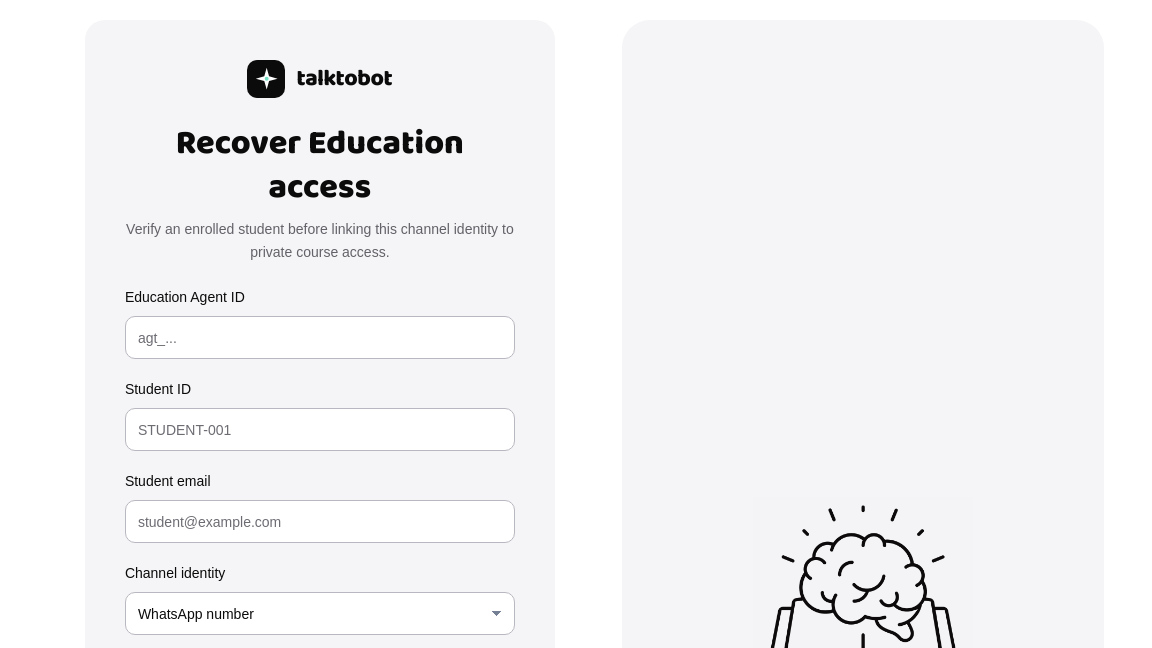
Test: EducationAccessRecoveryPage › does not disclose enrollment validity in the start confirmation
Type "agt_unknown" into the field labelled "Education Agent ID" at (320,338), box [125,316,515,359]
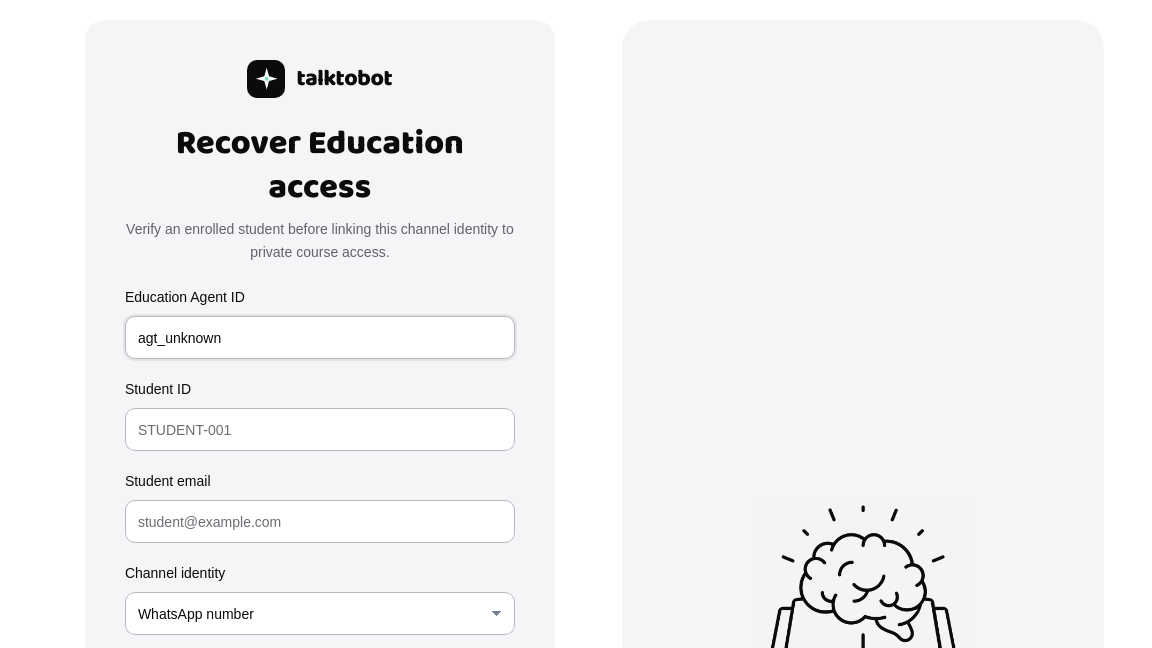
Type "UNKNOWN" into the field labelled "Student ID" at (320,430), box [125,408,515,451]
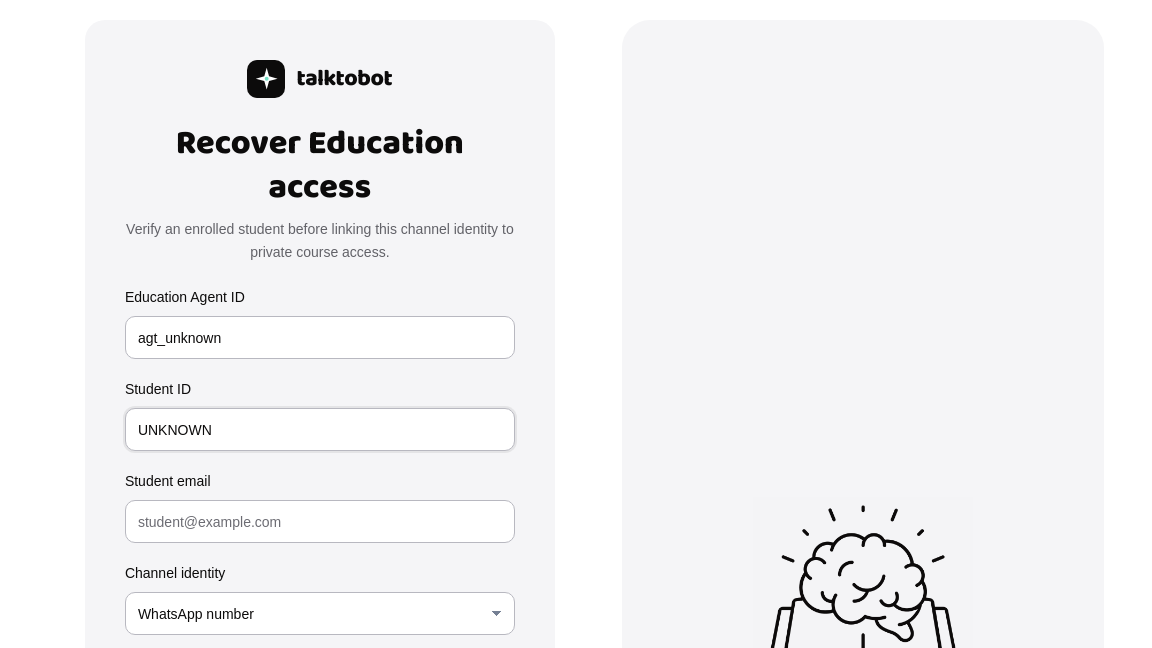
Type "unknown@example.com" into the field labelled "Student email" at (320,522), box [125,500,515,543]
(page scrolled)
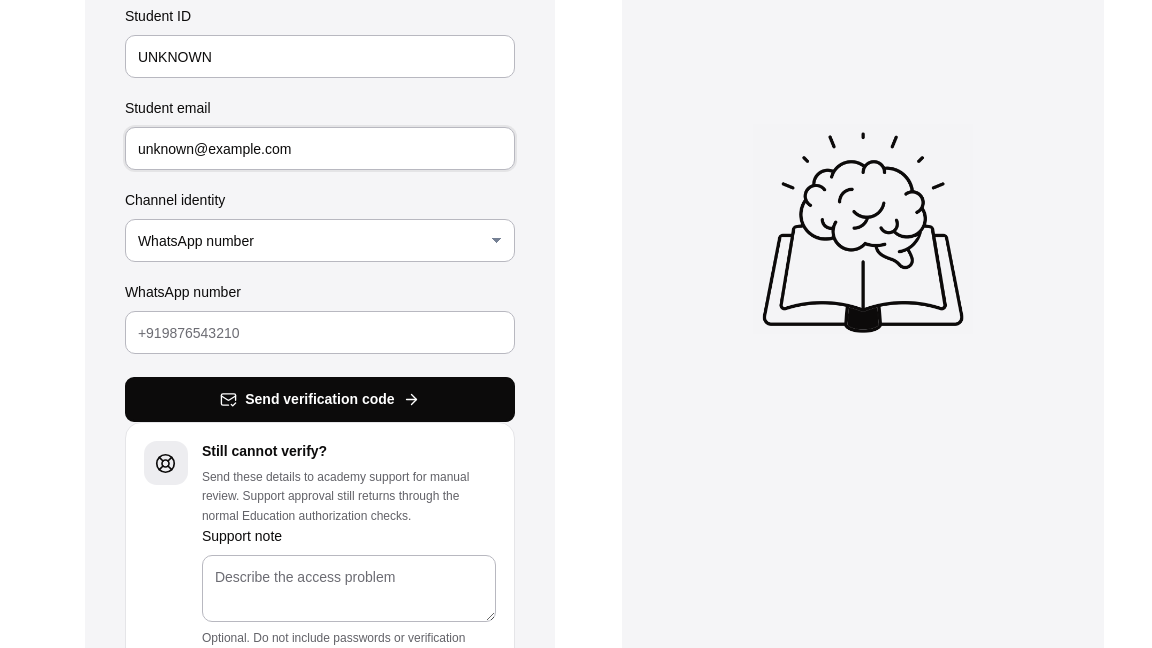
Type "+919999999999" into the field labelled "WhatsApp number" at (320,333), box [125,311,515,354]
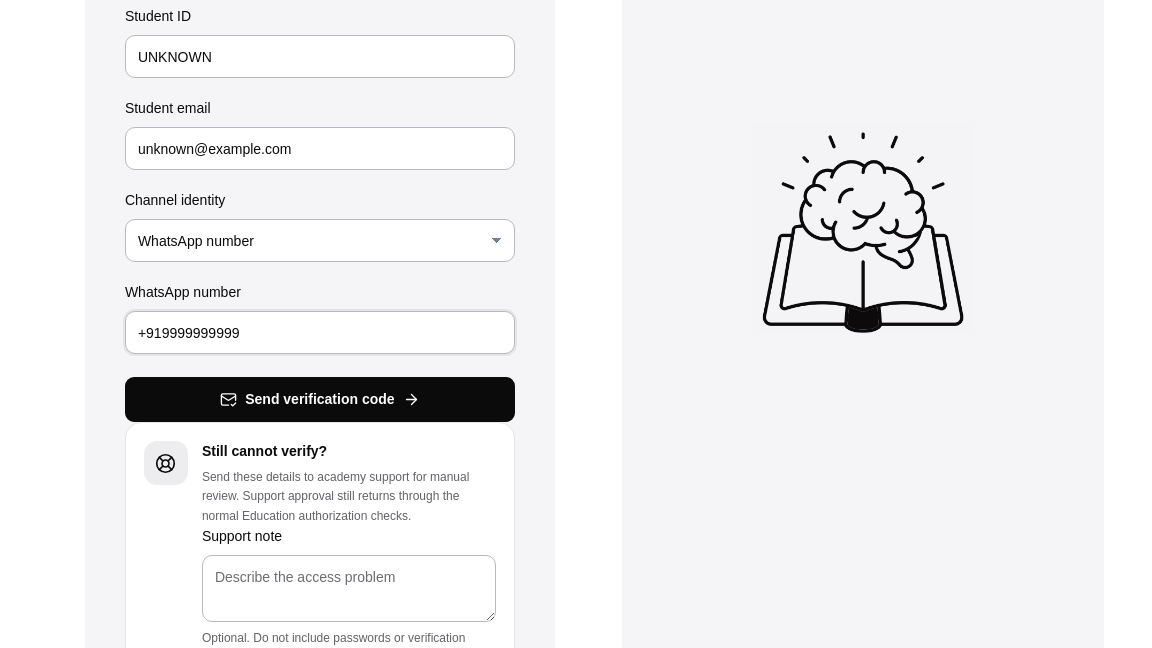
Click the button "Send verification code" at (320,400), box [125,377,515,422]
(page scrolled)
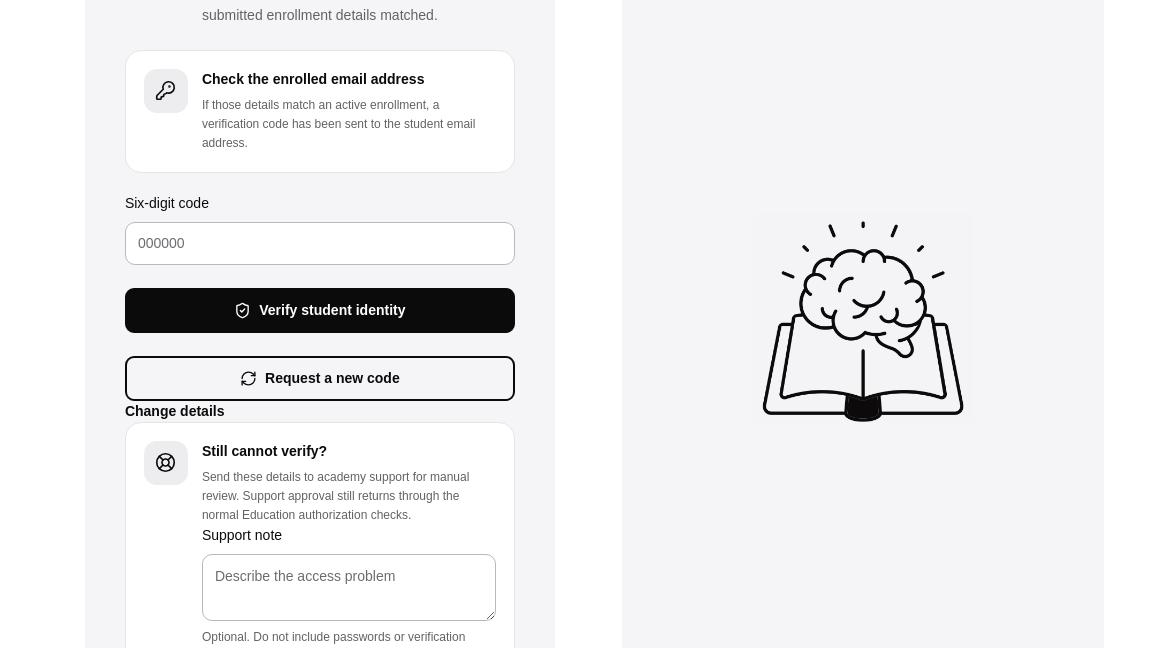
Expected: the text "If those details match an active enrollment" is shown, [202,98,475,150]
